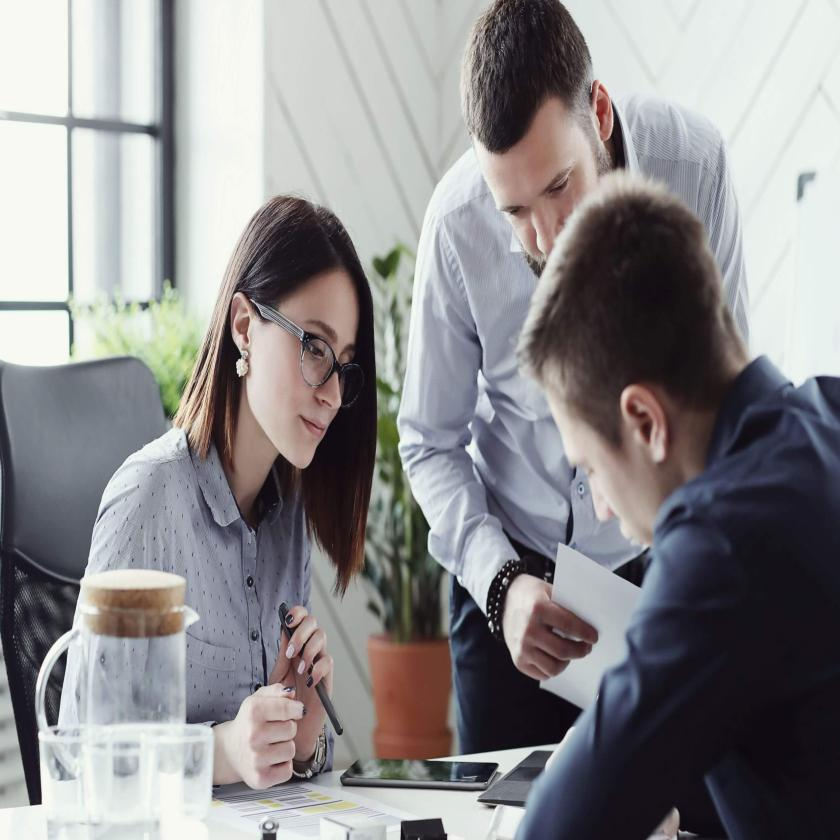Sin_casco: (522, 176, 732, 552), (238, 189, 374, 506), (454, 0, 610, 256)
